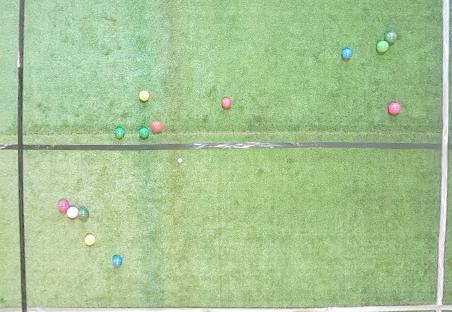blue: (341, 48, 353, 61), (112, 255, 123, 268)
green: (376, 40, 389, 53), (385, 30, 398, 43), (78, 207, 89, 220), (114, 127, 125, 139), (139, 128, 149, 138)
red: (388, 102, 401, 115), (57, 200, 70, 213), (151, 120, 163, 134), (67, 206, 79, 219), (221, 97, 232, 109)
vline: (1, 1, 28, 311), (433, 1, 451, 311)
white: (177, 158, 183, 163)
yellow: (84, 233, 96, 246), (138, 90, 149, 102)
